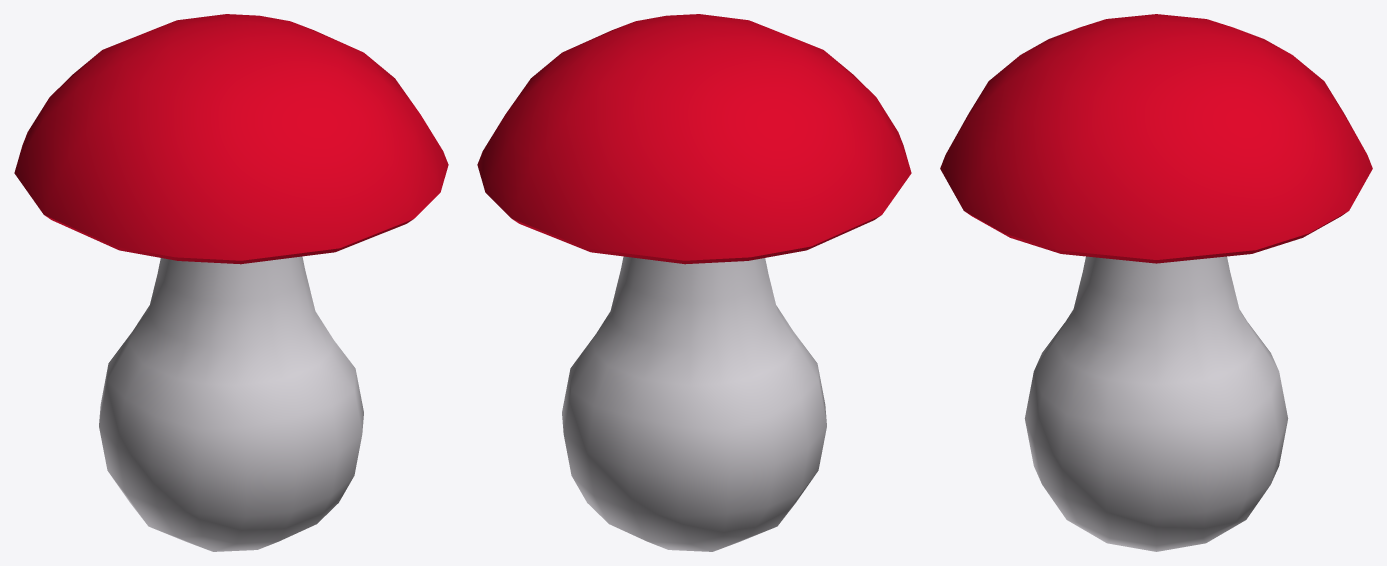
The model's file is mushroom.fbx.
3 views of the same model, side by side, from view 1: azimuth 30°, elevation 25°; view 2: azimuth 150°, elevation 25°; view 3: azimuth 270°, elevation 25° (orthographic).
Parts seen in each view (by area): view 1: Cube.001; view 2: Cube.001; view 3: Cube.001.
Boxes of the visible parts, bbox=[...] form: Cube.001: bbox=[14, 14, 448, 551]; Cube.001: bbox=[477, 14, 911, 551]; Cube.001: bbox=[940, 14, 1372, 551].
Bounding box in the file's own units: 7.67 × 9.69 × 7.67.
